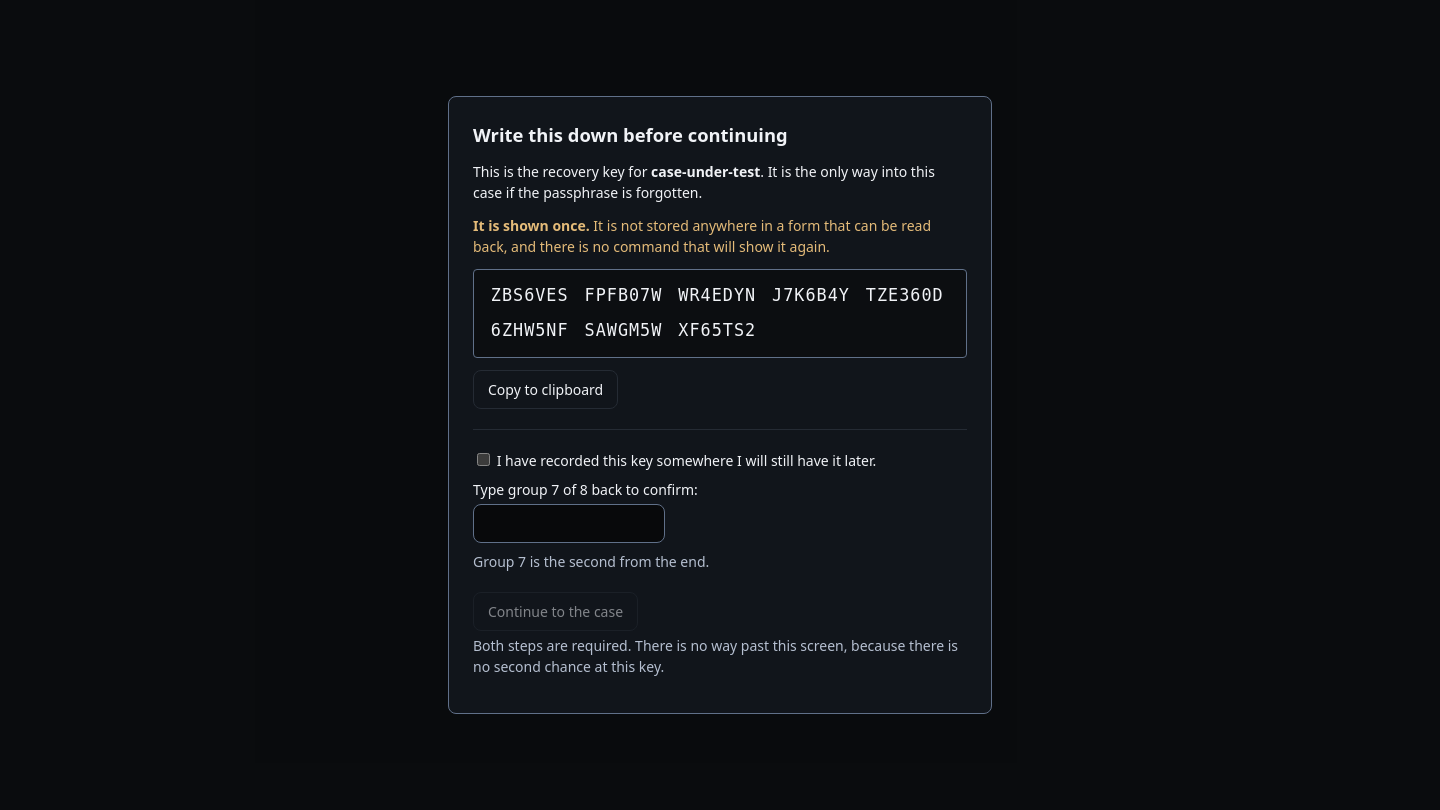
Scenario: the recovery key gate › rejects a different group of the same key
Click the checkbox at [484, 459], box [477,453,490,466]
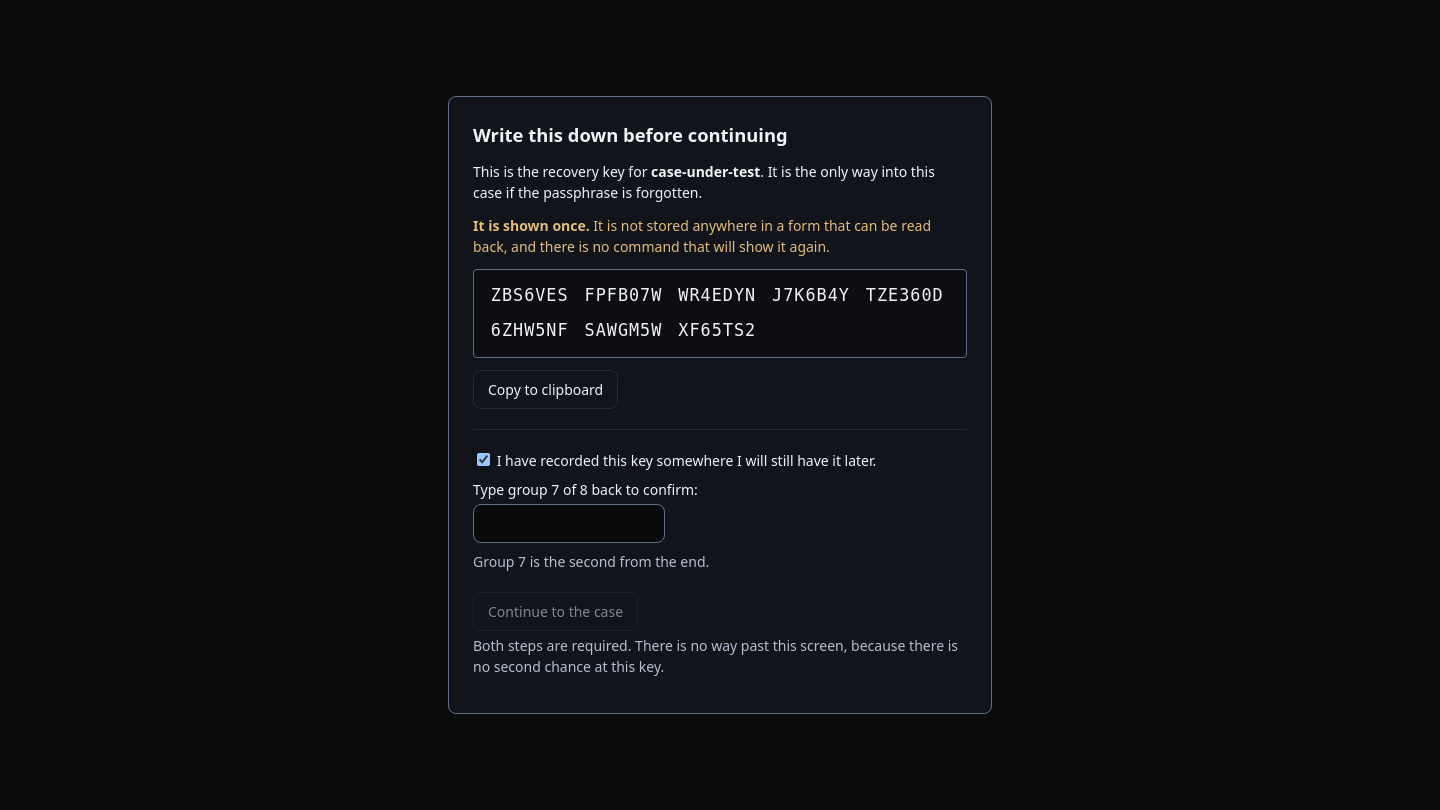
Type "ZBS6VES" into the field labelled "Type group 7 of 8 back to confirm:" at [569, 523], box [473,504,665,543]
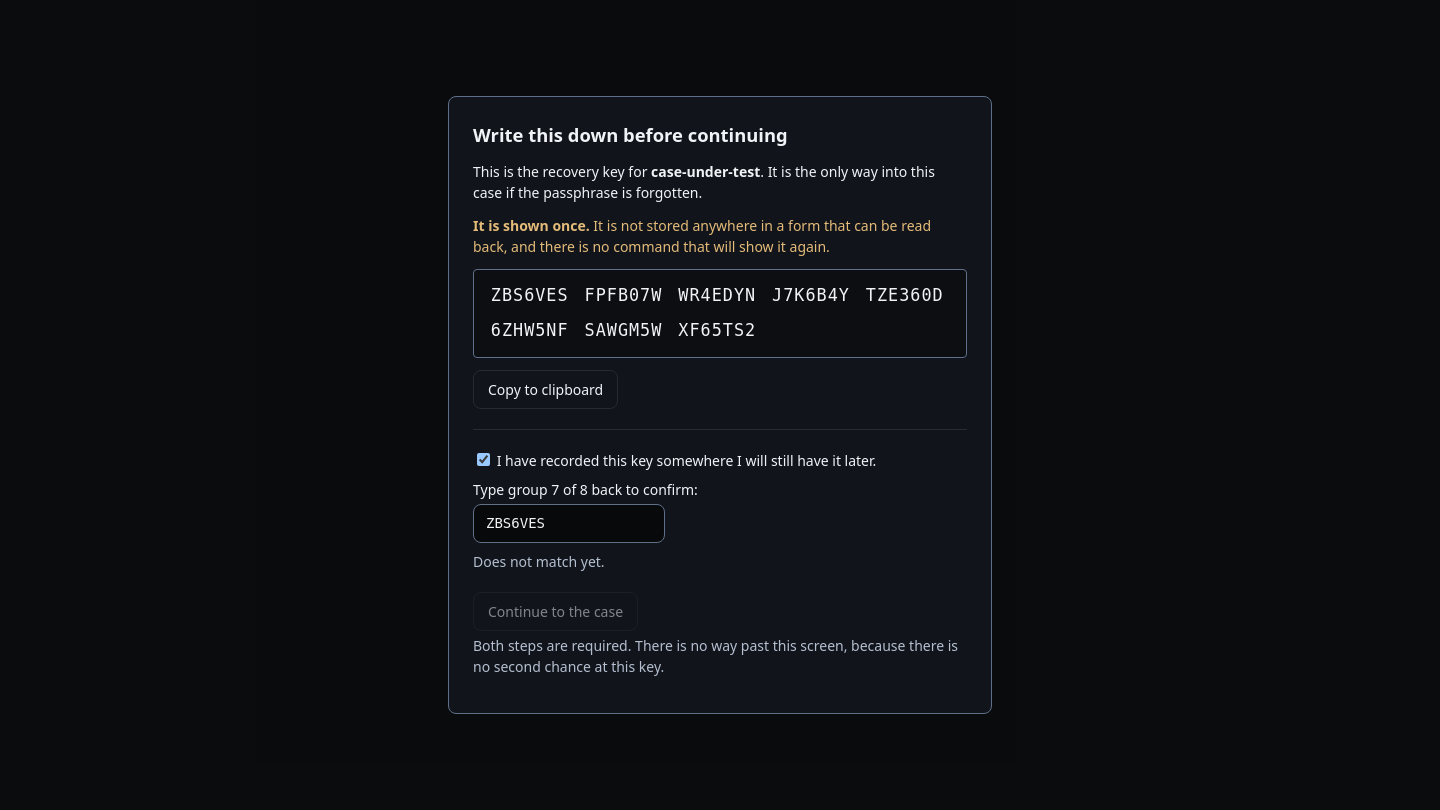
Check: the button with class "continue" is disabled, box [473,592,638,631]
Check: the text "Does not match yet" is shown, box [473,552,605,571]
